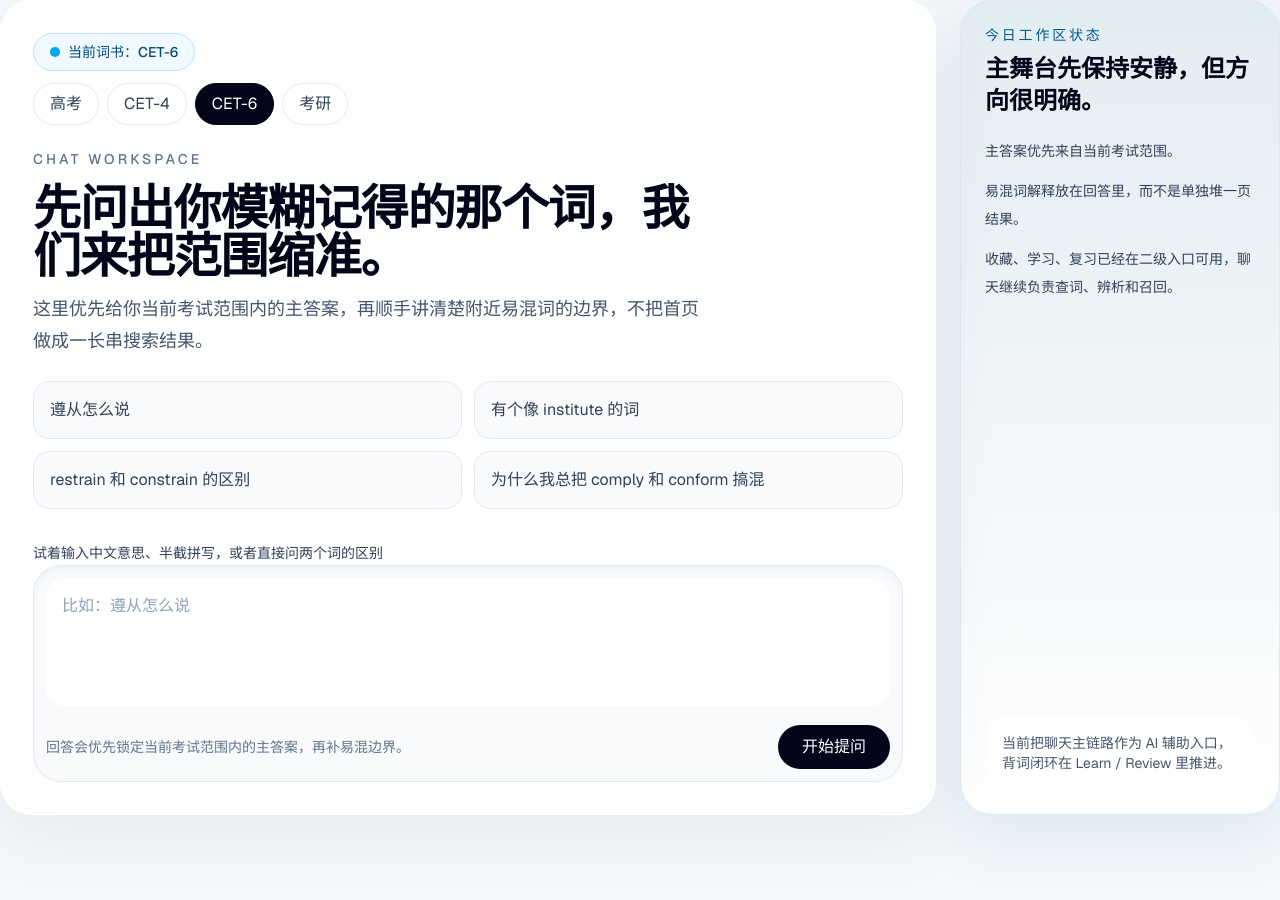
Test: ChatWorkspace › syncs active exam target from a scope-switch follow-up response
The width and height of the screenshot is (1280, 900).
In the text box with test id "chat-input": (468, 642) [46,578,890,706], type "换成考研范围"
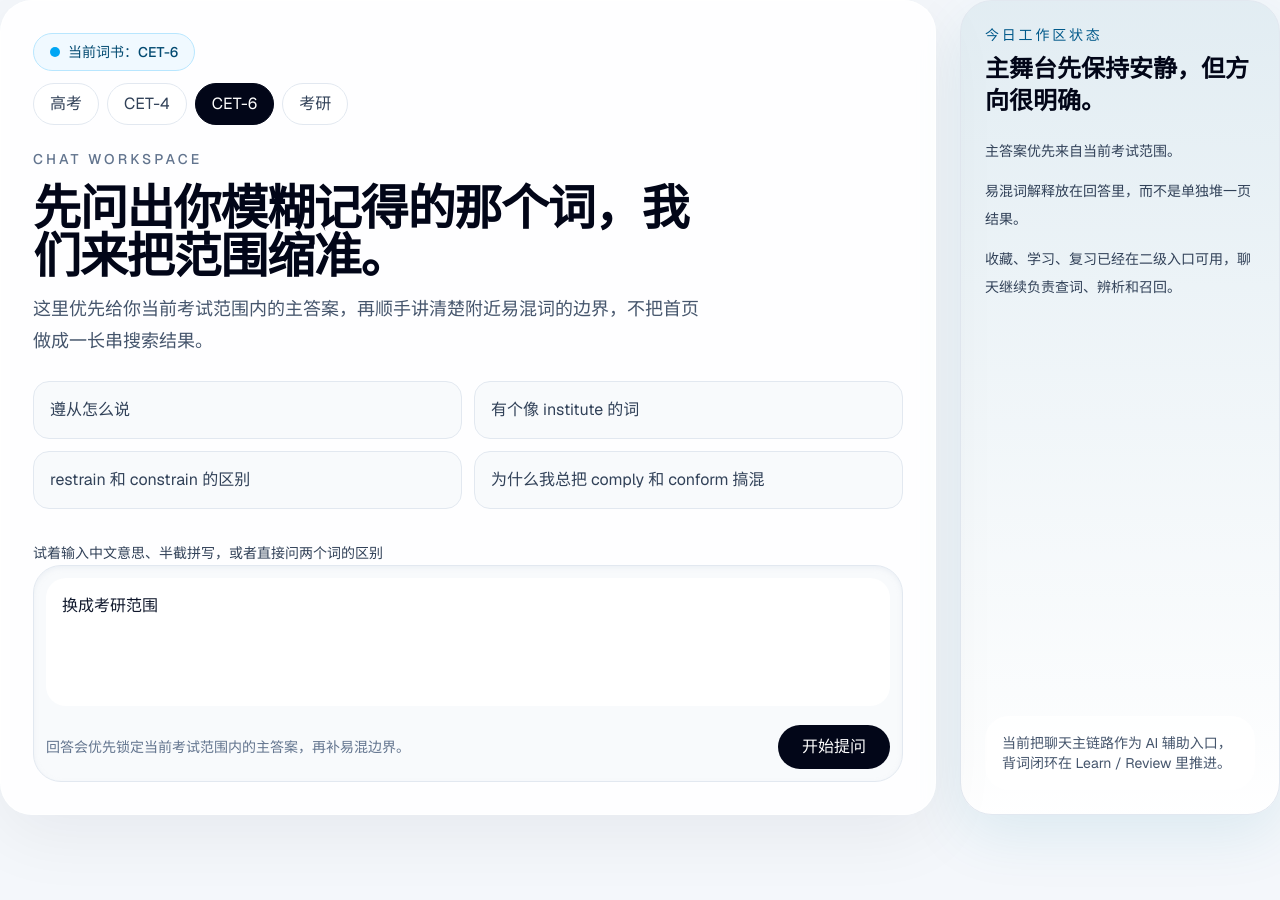
Click the button "开始提问": (834, 747) [778,725,890,769]
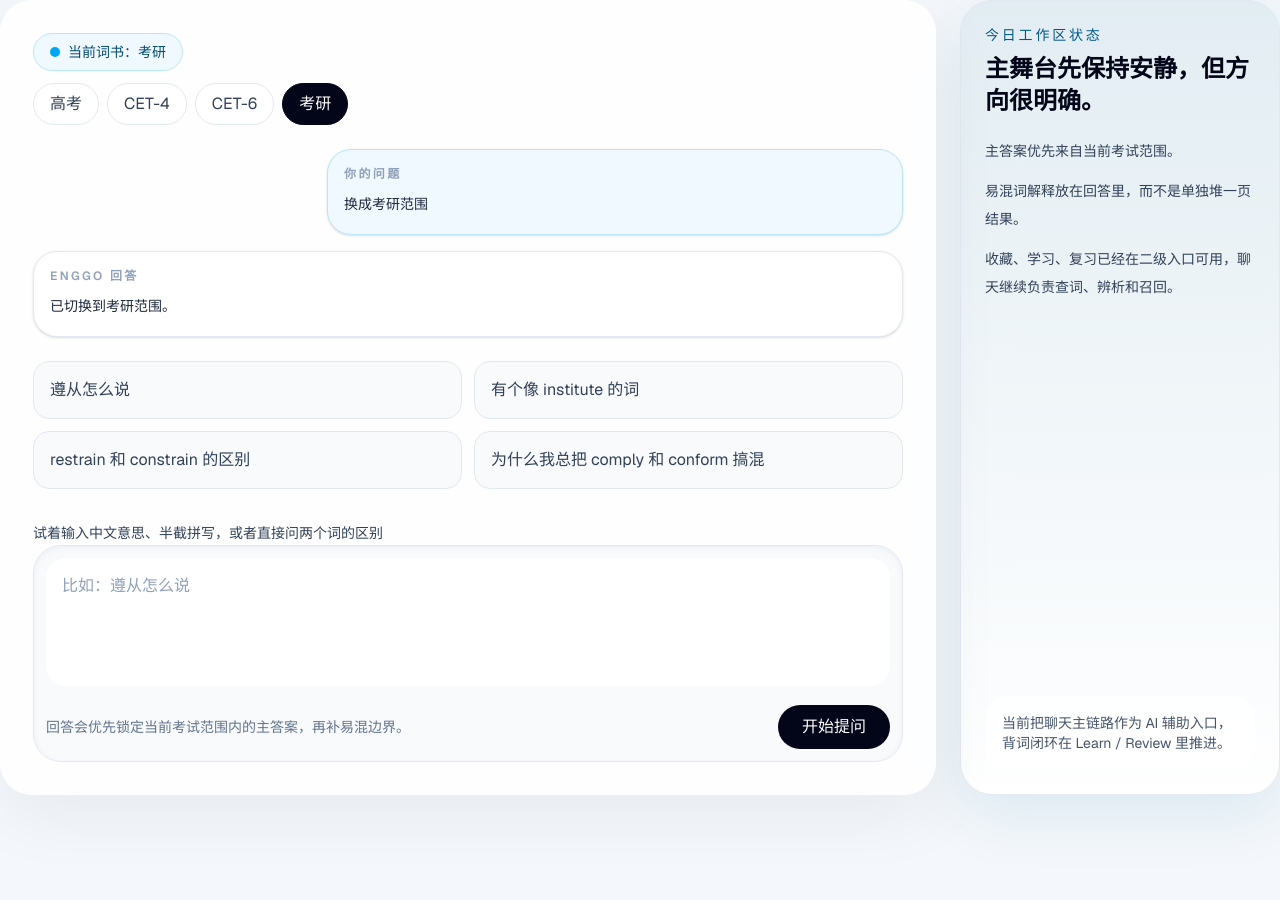
Result: the text "已切换到考研范围。" is shown at [50,297,176,315]
Result: the element with test id "active-exam-target" reads "当前词书：考研" at [33,33,183,71]
